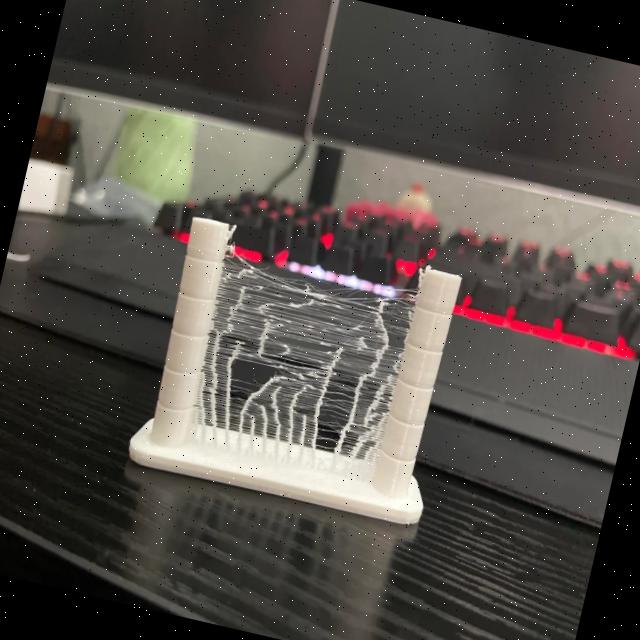stringing: (192, 240, 418, 478)
